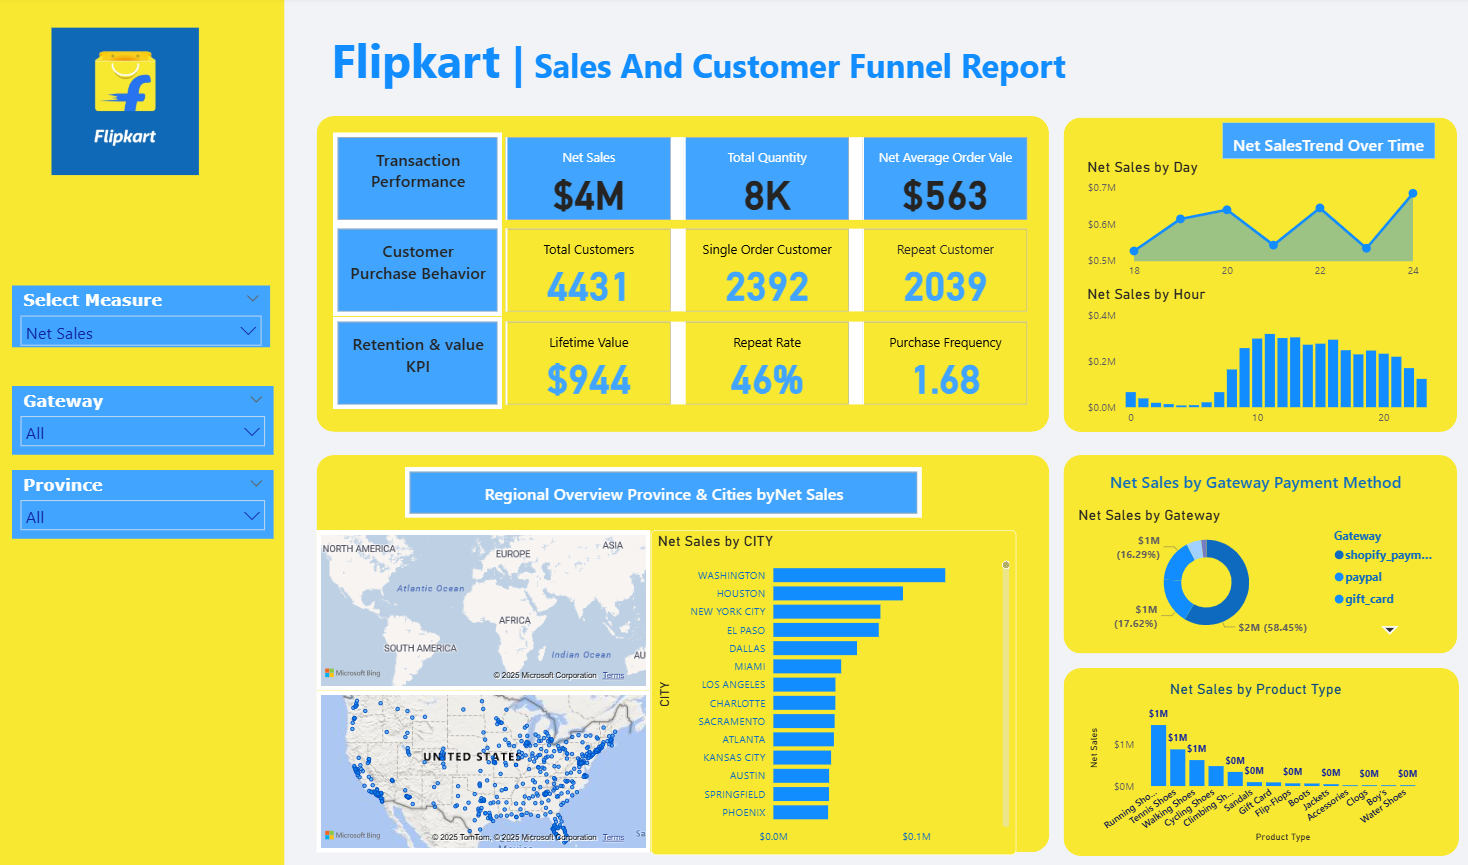

This screenshot's page, from the dashboard's own definition file:
{"tool":"powerbi","page":{"name":"Page 1","canvas":[1700,1000],"ordinal":0},"visuals":[{"type":"shape","box":[10,0,328.8,998.9],"z":0},{"type":"textbox","box":[376.1,30.2,866.8,80.4],"z":1000},{"type":"shape","box":[376.5,138,838.3,361.4],"z":2000},{"type":"cardVisual","fields":{"Data":["FlipkartSales xlsx.Net Sales","FlipkartSales xlsx.Total Quantity","FlipkartSales xlsx.Net Average Order Vale"]},"box":[587.3,155.6,609.9,105.4],"z":3000},{"type":"cardVisual","fields":{"Data":["FlipkartSales xlsx.Transaction Perf"]},"box":[394,155.6,193.3,105.4],"z":4000},{"type":"cardVisual","fields":{"Data":["FlipkartSales xlsx.Total Customers","FlipkartSales xlsx.Single Order Customer","FlipkartSales xlsx.Repeat Customer"]},"box":[587.3,261,609.9,105.4],"z":5000},{"type":"cardVisual","fields":{"Data":["FlipkartSales xlsx.Customer Purchase Behaviour"]},"box":[394,261,193.3,105.4],"z":6000},{"type":"cardVisual","fields":{"Data":["FlipkartSales xlsx.Lifetime Value","FlipkartSales xlsx.Repeat Rate","FlipkartSales xlsx.Purchase Frequency"]},"box":[587.3,366.4,609.9,105.4],"z":7000},{"type":"cardVisual","fields":{"Data":["FlipkartSales xlsx.Retention and Value KPIs"]},"box":[394,366.4,193.3,105.4],"z":8000},{"type":"shape","box":[376.1,524.9,838.6,454.5],"z":9000},{"type":"filledMap","fields":{"Category":["FlipkartSales xlsx.Billing Address Province"]},"box":[376.1,611.4,382.1,183],"z":10000},{"type":"slicer","fields":{"Values":["Select Measure.Select Measure"]},"box":[28.2,331.8,295.6,70.4],"z":11000},{"type":"map","fields":{"Category":["FlipkartSales xlsx.Location"]},"box":[376.1,794.4,382.1,185],"z":12000},{"type":"clusteredBarChart","fields":{"Y":["FlipkartSales xlsx.Net Sales"],"Category":["FlipkartSales xlsx.CITY"]},"box":[758.2,611.4,418.3,372],"z":13000},{"type":"cardVisual","fields":{"Data":["FlipkartSales xlsx.Map Title"]},"box":[476.6,539,591.2,58.3],"z":14000},{"type":"shape","box":[1230.8,138.8,450.5,360],"z":15000},{"type":"areaChart","fields":{"Y":["FlipkartSales xlsx.Net Sales"],"Category":["FlipkartSales xlsx.Invoice Date.Variation.Date Hierarchy.Day"]},"box":[1252.9,185,392.2,146.8],"z":16000},{"type":"columnChart","fields":{"Y":["FlipkartSales xlsx.Net Sales"],"Category":["FlipkartSales xlsx.Hour"]},"box":[1252.9,331.8,428.4,168.9],"z":17000},{"type":"cardVisual","fields":{"Data":["FlipkartSales xlsx.Trend Title"]},"box":[1407.7,138.8,253.4,52.3],"z":18000},{"type":"shape","box":[1230.8,524.9,450.5,227.2],"z":19000},{"type":"donutChart","fields":{"Y":["FlipkartSales xlsx.Net Sales"],"Category":["FlipkartSales xlsx.Gateway"]},"box":[1242.8,583.2,428.4,154.9],"z":20000},{"type":"cardVisual","fields":{"Data":["FlipkartSales xlsx.Gateway Title"]},"box":[1254.9,524.9,392.2,58.3],"z":20001},{"type":"shape","box":[1230.8,768.2,452.5,215.2],"z":20002},{"type":"columnChart","fields":{"Category":["FlipkartSales xlsx.Product Type"],"Y":["FlipkartSales xlsx.Net Sales"]},"box":[1254.9,782.3,392.2,190],"z":20003},{"type":"image","box":[56.3,30.2,201.1,179],"z":20004},{"type":"slicer","fields":{"Values":["FlipkartSales xlsx.Gateway"]},"box":[28.2,446.5,299.6,78.4],"z":20005},{"type":"slicer","fields":{"Values":["FlipkartSales xlsx.Billing Address Province"]},"box":[28.2,543,299.6,78.4],"z":20006}]}

Visuals, with their boxes in screenshot pixels (x1, y1, x2, y2), scaled from the page's 1700x1000 canvas onto the 1468x865 screenshot:
shape: l=9, t=0, r=293, b=864
textbox: l=325, t=26, r=1073, b=96
shape: l=325, t=119, r=1049, b=432
cardVisual - FlipkartSales xlsx.Net Sales x FlipkartSales xlsx.Total Quantity: l=507, t=135, r=1034, b=226
cardVisual - FlipkartSales xlsx.Transaction Perf: l=340, t=135, r=507, b=226
cardVisual - FlipkartSales xlsx.Total Customers x FlipkartSales xlsx.Single Order Customer: l=507, t=226, r=1034, b=317
cardVisual - FlipkartSales xlsx.Customer Purchase Behaviour: l=340, t=226, r=507, b=317
cardVisual - FlipkartSales xlsx.Lifetime Value x FlipkartSales xlsx.Repeat Rate: l=507, t=317, r=1034, b=408
cardVisual - FlipkartSales xlsx.Retention and Value KPIs: l=340, t=317, r=507, b=408
shape: l=325, t=454, r=1049, b=847
filledMap - FlipkartSales xlsx.Billing Address Province: l=325, t=529, r=655, b=687
slicer - Select Measure.Select Measure: l=24, t=287, r=280, b=348
map - FlipkartSales xlsx.Location: l=325, t=687, r=655, b=847
clusteredBarChart - FlipkartSales xlsx.Net Sales x FlipkartSales xlsx.CITY: l=655, t=529, r=1016, b=851
cardVisual - FlipkartSales xlsx.Map Title: l=412, t=466, r=922, b=517
shape: l=1063, t=120, r=1452, b=431
areaChart - FlipkartSales xlsx.Net Sales x FlipkartSales xlsx.Invoice Date.Variation.Date Hierarchy.Day: l=1082, t=160, r=1421, b=287
columnChart - FlipkartSales xlsx.Net Sales x FlipkartSales xlsx.Hour: l=1082, t=287, r=1452, b=433
cardVisual - FlipkartSales xlsx.Trend Title: l=1216, t=120, r=1434, b=165
shape: l=1063, t=454, r=1452, b=651
donutChart - FlipkartSales xlsx.Net Sales x FlipkartSales xlsx.Gateway: l=1073, t=504, r=1443, b=638
cardVisual - FlipkartSales xlsx.Gateway Title: l=1084, t=454, r=1422, b=504
shape: l=1063, t=664, r=1454, b=851
columnChart - FlipkartSales xlsx.Product Type x FlipkartSales xlsx.Net Sales: l=1084, t=677, r=1422, b=841
image: l=49, t=26, r=222, b=181
slicer - FlipkartSales xlsx.Gateway: l=24, t=386, r=283, b=454
slicer - FlipkartSales xlsx.Billing Address Province: l=24, t=470, r=283, b=538
